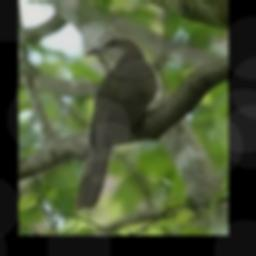Cuckoo: (75, 36, 162, 212)
